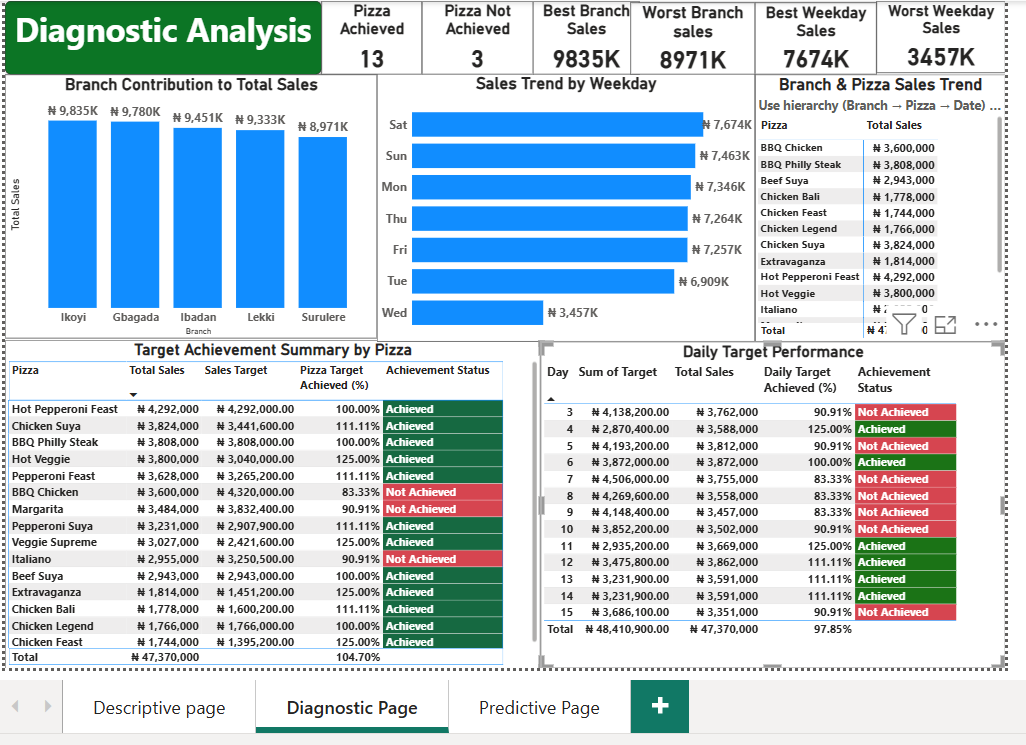

This screenshot's page, from the dashboard's own definition file:
{"tool":"powerbi","page":{"name":"Diagnostic Page","canvas":[1800,1200],"ordinal":1},"visuals":[{"type":"tableEx","title":"Target Achievement Summary by Pizza","fields":{"Values":["Sales Target.Pizza","Sales Data.Total Sales","Sales Target.Sales Target","Sales Target.Pizza Target Achieved (%)","Sales Target.Achieved pizza"]},"box":[0,609.9,963.4,591],"z":0},{"type":"textbox","box":[0,0,569.4,132.2],"z":1000},{"type":"pivotTable","title":"Branch & Pizza Sales Trend","fields":{"Rows":["Sales Data.Branch","Sales Target.Pizza","Daily Target.Day.Variation.Date Hierarchy.Day"],"Values":["Sales Data.Total Sales"]},"box":[1349.4,132.2,450.7,480.4],"z":2000},{"type":"columnChart","title":"Branch Contribution to Total Sales","fields":{"Category":["Sales Data.Branch"],"Y":["Sales Data.Total Sales"]},"box":[0,132.2,669.3,475],"z":3000},{"type":"tableEx","title":"Daily Target Performance","fields":{"Values":["Daily Target.Day.Variation.Date Hierarchy.Day","Sum(Daily Target.Target)","Sales Data.Total Sales","Sales Data.Daily Target Achieved (%)","Daily Target.Achieve"]},"box":[963.4,612.6,836.6,588.3],"z":4000},{"type":"clusteredBarChart","title":"Sales Trend by Weekday","fields":{"Category":["Daily Target.Weekday Name"],"Y":["Sales Data.Total Sales"]},"box":[669.3,129.5,680.1,483.1],"z":5000},{"type":"card","title":"Pizza Achieved","fields":{"Values":["Sales Target.Pizzas Achieved"]},"box":[569.4,0,180.8,132.2],"z":6000},{"type":"card","title":"Pizza Not Achieved","fields":{"Values":["Sales Target.Pizzas Not Achieved"]},"box":[750.2,0,199.7,132.2],"z":7000},{"type":"card","title":"Best Branch Sales","fields":{"Values":["Branch Data.Best Branch Sales"]},"box":[949.9,0,191.6,132.2],"z":8000},{"type":"card","title":"Worst Weekday Sales","fields":{"Values":["Daily Target.Worst Weekday Sales"]},"box":[1568,0,232.1,129.5],"z":9000},{"type":"card","title":"Worst Branch sales","fields":{"Values":["Branch Data.Worst Branch Sales"]},"box":[1125.4,2.7,224,129.5],"z":10000},{"type":"card","title":"Best Weekday Sales","fields":{"Values":["Daily Target.Best Weekday Sales"]},"box":[1349.4,2.7,218.6,129.5],"z":11000}]}

Visuals, with their boxes on the page's 1800x1200 design canvas (x1, y1, x2, y2). These are canvas units, not pixel positions in the 1026x745 screenshot, which may show the page scaled, cropped or inside an application window:
"Target Achievement Summary by Pizza" tableEx: <box>0,610,963,1201</box>
textbox: <box>0,0,569,132</box>
"Branch & Pizza Sales Trend" pivotTable: <box>1349,132,1800,613</box>
"Branch Contribution to Total Sales" columnChart: <box>0,132,669,607</box>
"Daily Target Performance" tableEx: <box>963,613,1800,1201</box>
"Sales Trend by Weekday" clusteredBarChart: <box>669,130,1349,613</box>
"Pizza Achieved" card: <box>569,0,750,132</box>
"Pizza Not Achieved" card: <box>750,0,950,132</box>
"Best Branch Sales" card: <box>950,0,1142,132</box>
"Worst Weekday Sales" card: <box>1568,0,1800,130</box>
"Worst Branch sales" card: <box>1125,3,1349,132</box>
"Best Weekday Sales" card: <box>1349,3,1568,132</box>
